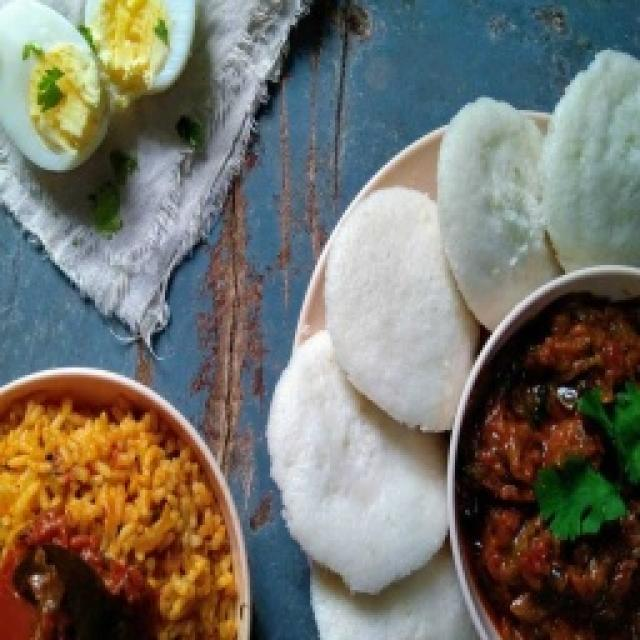idli: (268, 330, 447, 592), (325, 188, 477, 432), (438, 98, 559, 329), (543, 50, 639, 269), (310, 545, 477, 639)
